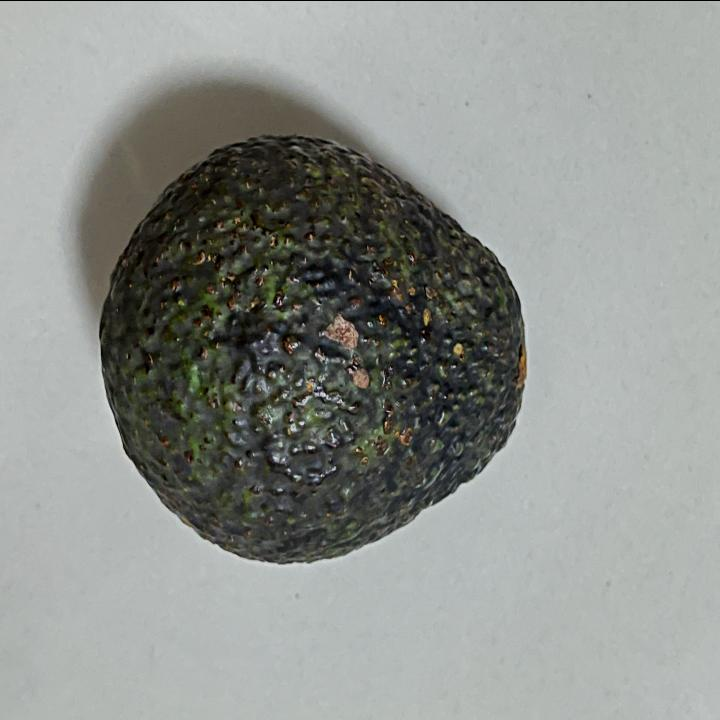Level1: (86, 126, 538, 572)
